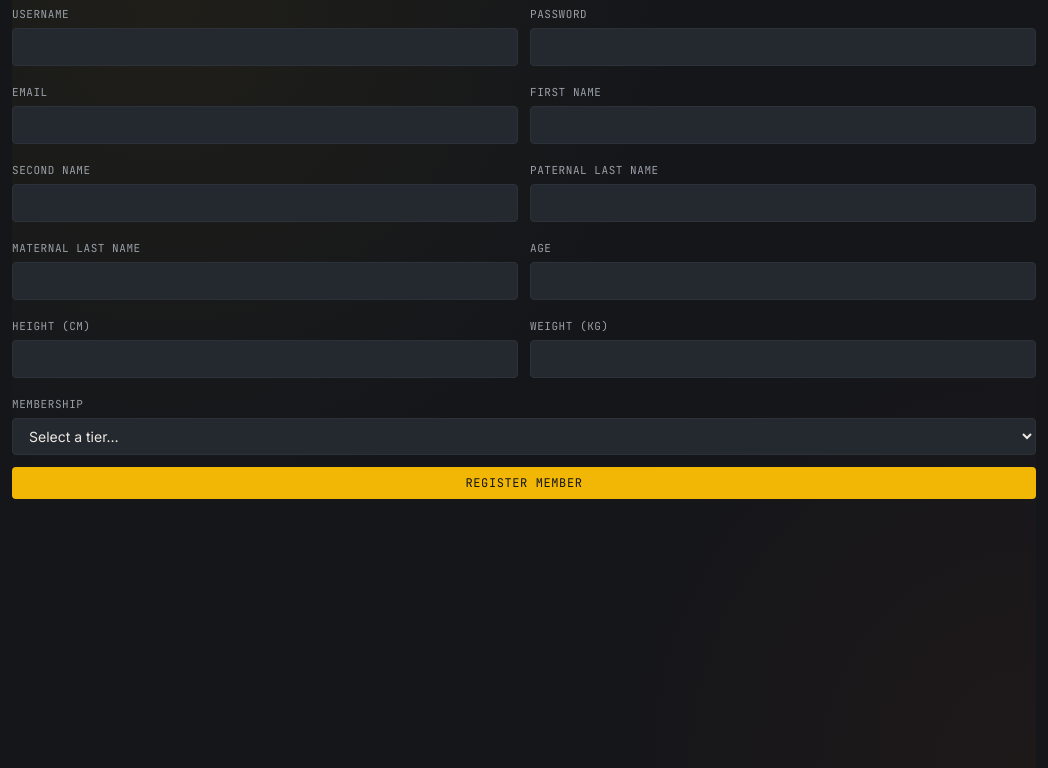
Test: ClientRegisterForm › age/height/weight strip non-numeric characters as they're typed
Type "3abc0" into the field labelled "Age". click: (783, 281)
box: [530,262,1036,300]
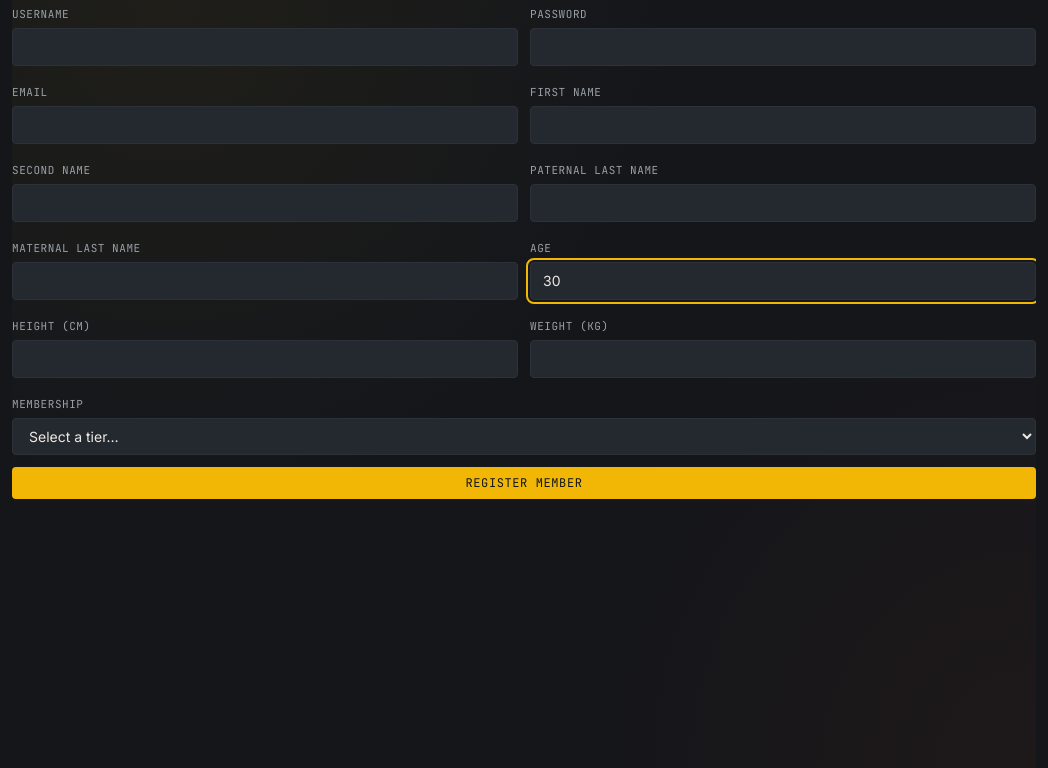
Type "1a8b0c.d5e.f" into the field labelled "Height (cm)". click: (265, 359)
box: [12,340,518,378]
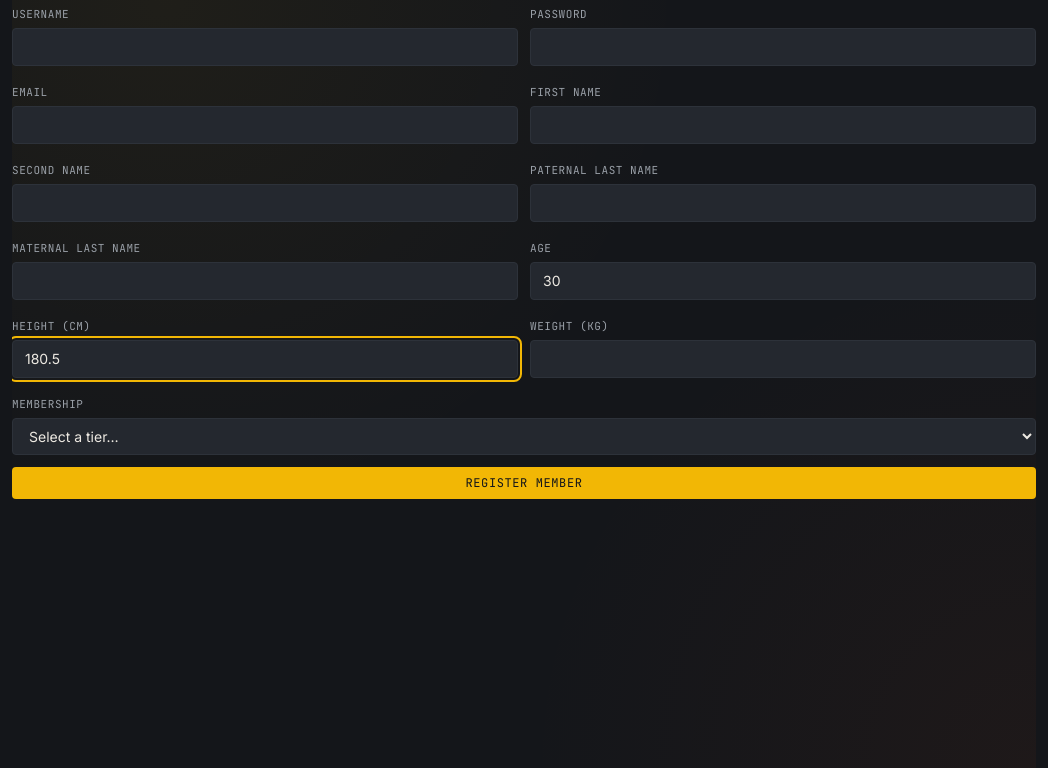
Result: the field labelled "Age" holds "30" at [530,262,1036,300]
Result: the field labelled "Height (cm)" holds "180.5" at [12,340,518,378]
